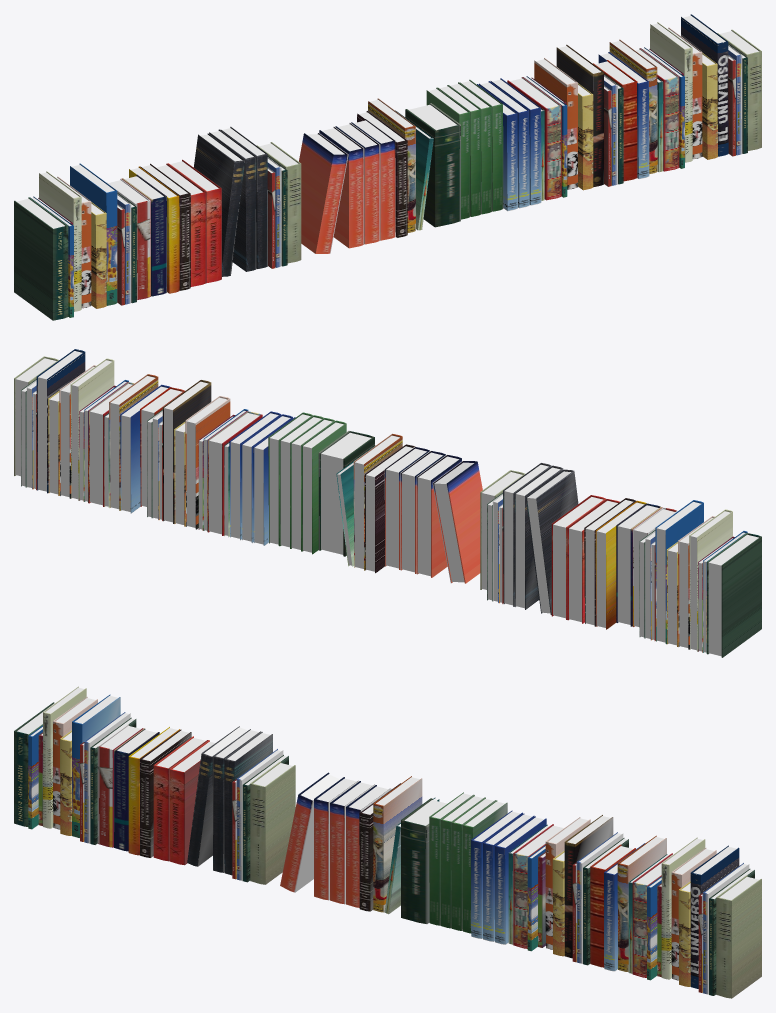
The model's file is books 1.FBX.
3 views of the same model, one above another, from view 1: azimuth 30°, elevation 25°; view 2: azimuth 150°, elevation 25°; view 3: azimuth 330°, elevation 25° (orthographic).
Parts seen in each view (by area): view 1: books 1; view 2: books 1; view 3: books 1.
Boxes of the visible parts, box(x1,y1,x2,y2) form: books 1: box(14, 14, 761, 320); books 1: box(14, 349, 761, 657); books 1: box(14, 686, 761, 998).
Bounding box in the file's own units: 176 × 26.93 × 17.58.
Materials: 1 (1 with a texture image).
